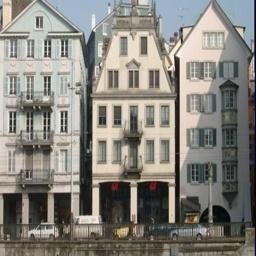building: (88, 0, 177, 223), (0, 2, 86, 228), (178, 2, 254, 231)
